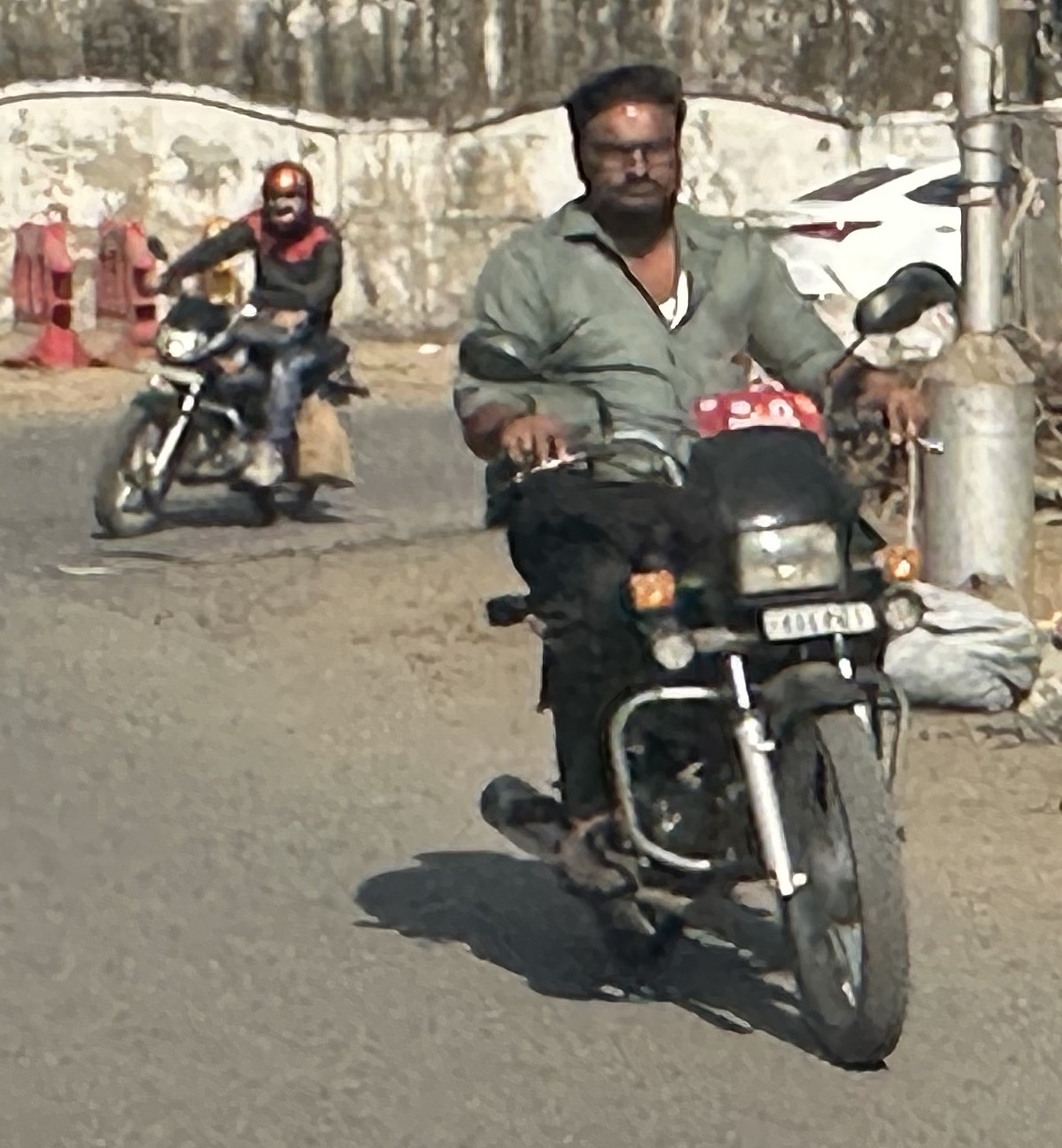BikeWithRider: (450, 57, 936, 1071), (82, 153, 373, 547)
Helmet: (258, 158, 322, 230)
NoHelmet: (557, 64, 687, 215)
